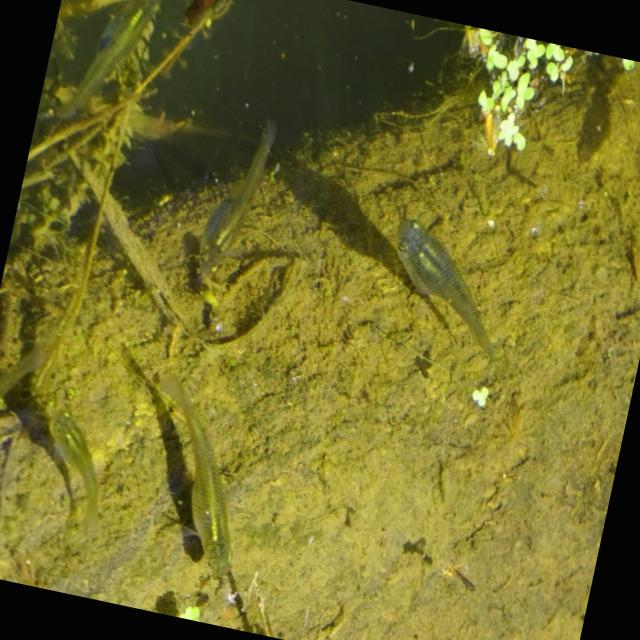Sivrisinek Baligi: (110, 362, 289, 626), (368, 207, 538, 376), (7, 391, 132, 538), (193, 109, 285, 288)
